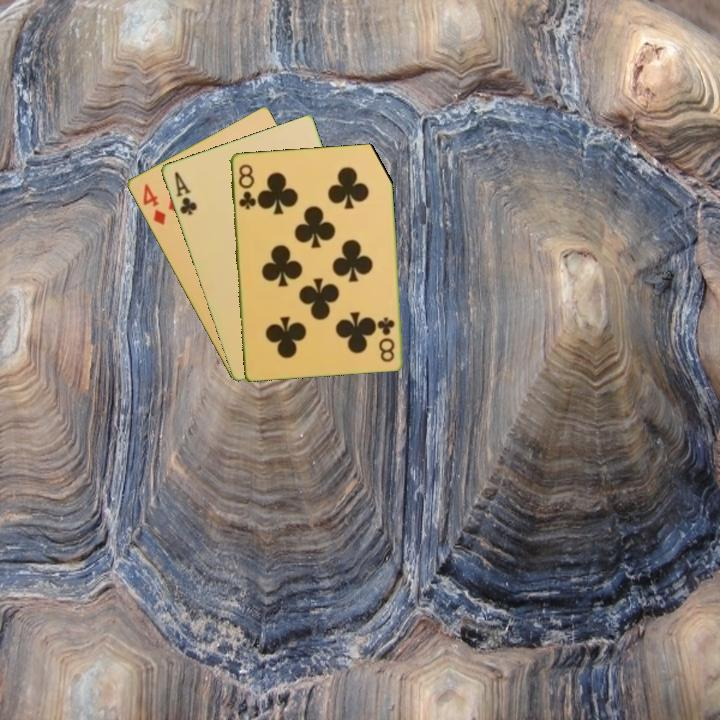4d: (139, 180, 168, 228)
8c: (234, 160, 258, 212), (375, 313, 397, 364)
Ac: (170, 168, 200, 218)
